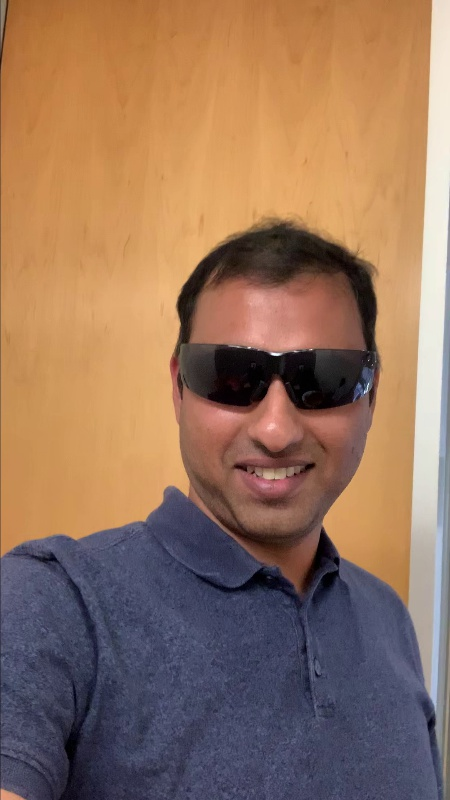glasses: (173, 337, 379, 414)
